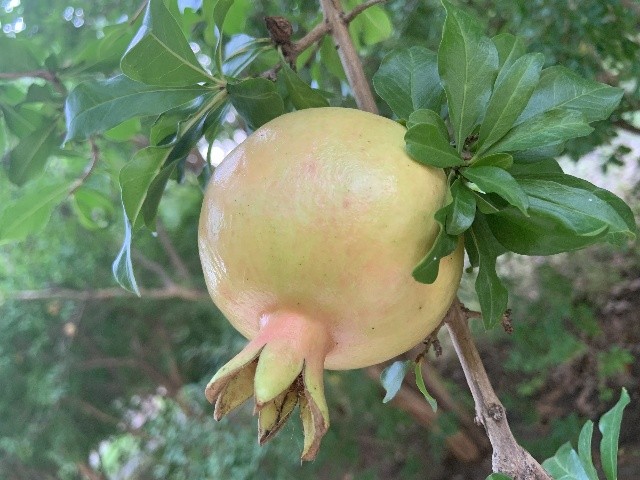mid-growth: (196, 106, 463, 461)
